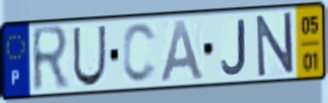A: (158, 19, 207, 85)
C: (121, 21, 159, 86)
J: (220, 17, 248, 77)
N: (254, 10, 296, 80)
R: (30, 22, 72, 96)
U: (71, 24, 108, 89)
